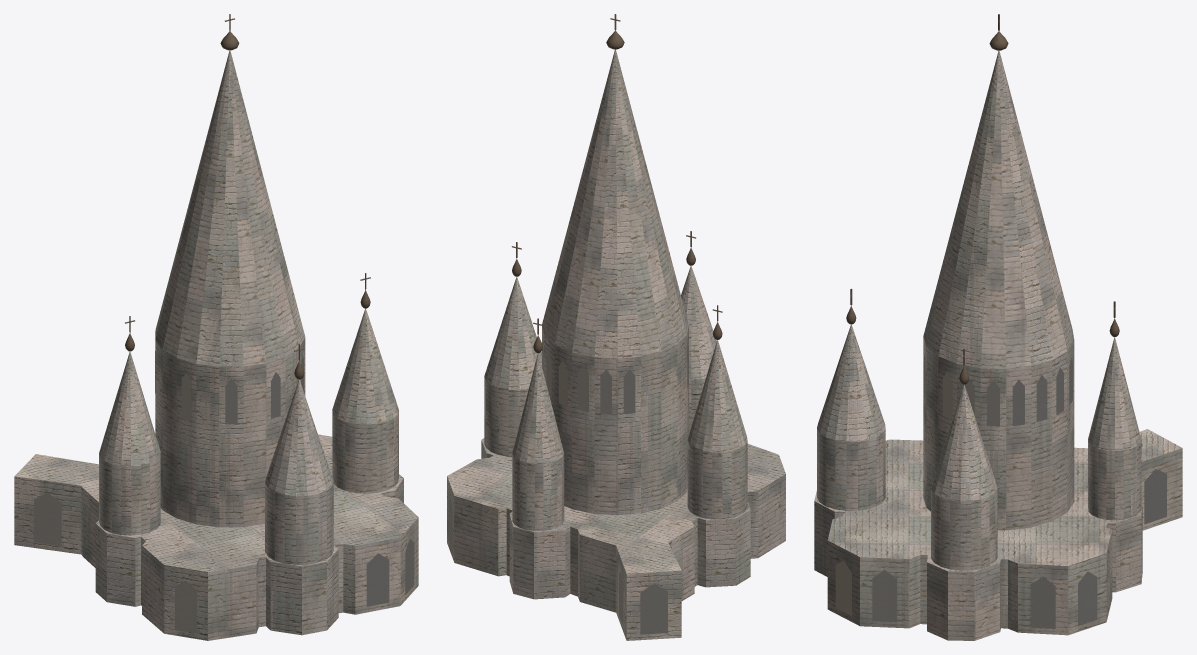
File: saint-alexandre-nevsky.glb
3 renders of one model, left to right at view 1: azimuth 30°, elevation 25°; view 2: azimuth 150°, elevation 25°; view 3: azimuth 270°, elevation 25°, orthographic. The views are drawn at different scales.
Parts seen in each view (by area): view 1: stone, window, metal; view 2: stone, window, metal; view 3: stone, window, metal.
Boxes of the visible parts, <box> form: stone: <box>14,50,418,640</box>; window: <box>34,351,414,633</box>; metal: <box>125,14,370,379</box>; stone: <box>447,49,785,640</box>; window: <box>448,342,688,634</box>; metal: <box>511,14,722,353</box>; stone: <box>814,50,1182,640</box>; window: <box>835,354,1166,628</box>; metal: <box>846,14,1119,384</box>.
Bounding box in the file's own units: 26.59 × 48 × 28.97.
3 materials, 3 textured.
